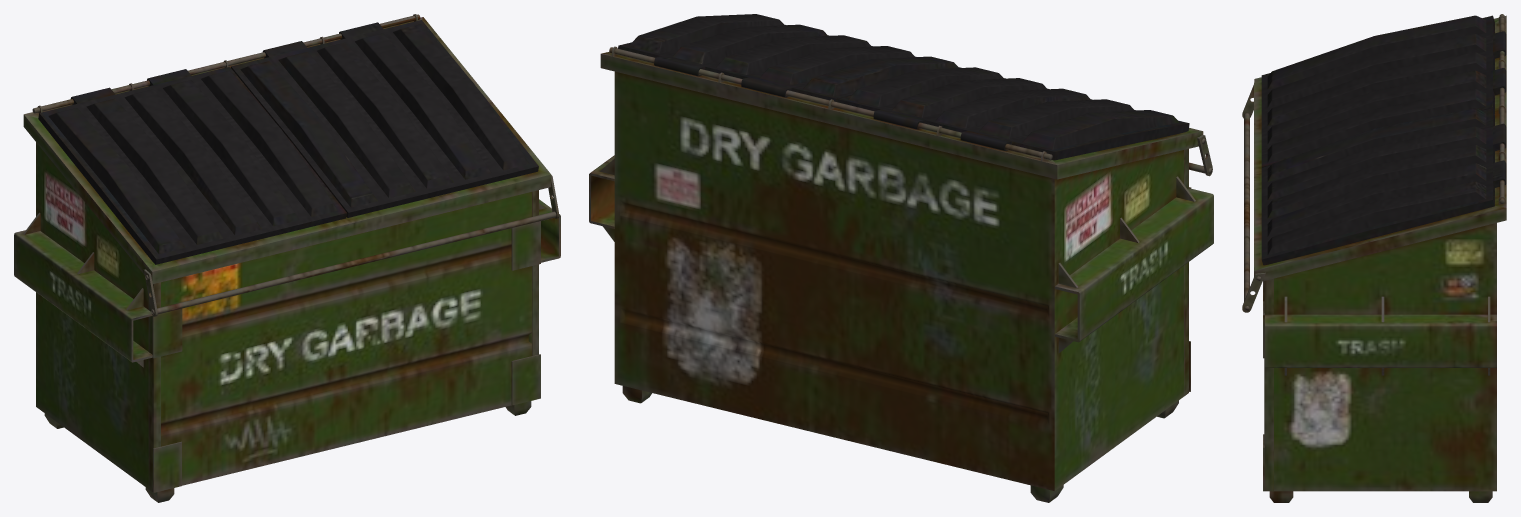
The model's file is prop_dumpster.glb.
3 renders of one model, left to right at view 1: azimuth 30°, elevation 25°; view 2: azimuth 150°, elevation 25°; view 3: azimuth 270°, elevation 25°, orthographic. The views are drawn at different scales.
Visible parts, largest first — view 1: Object_9; view 2: Object_9; view 3: Object_9.
Part boxes in pixels (x1=…): Object_9: x1=14, y1=14, x2=560, y2=502; Object_9: x1=589, y1=14, x2=1213, y2=502; Object_9: x1=1242, y1=14, x2=1506, y2=502.
Bounding box in the file's own units: 2 × 1.4 × 1.08.
Materials: 1 (1 with a texture image).
